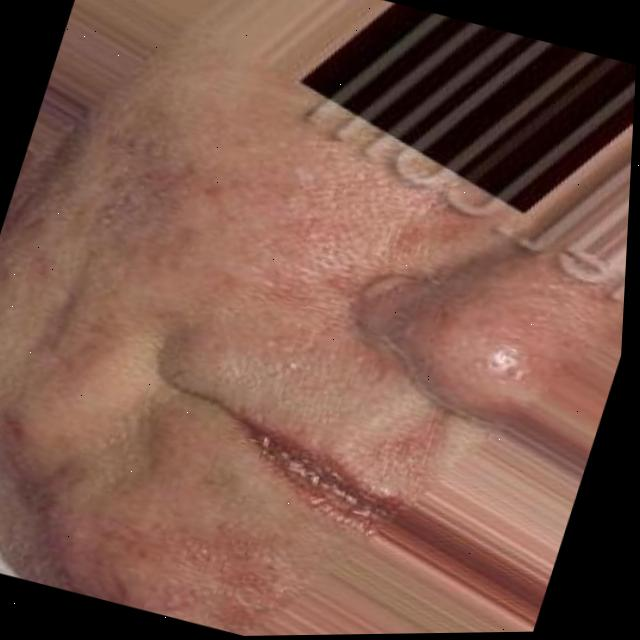Rosacea: (87, 103, 403, 339), (45, 483, 292, 639)
